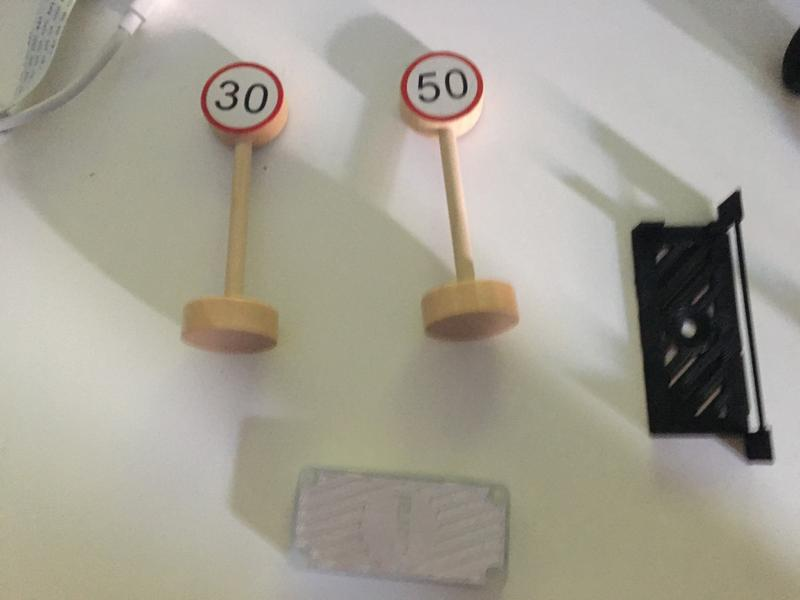Traffic_Sign_30: (201, 62, 283, 132)
Traffic_Sign_50: (401, 51, 485, 122)
